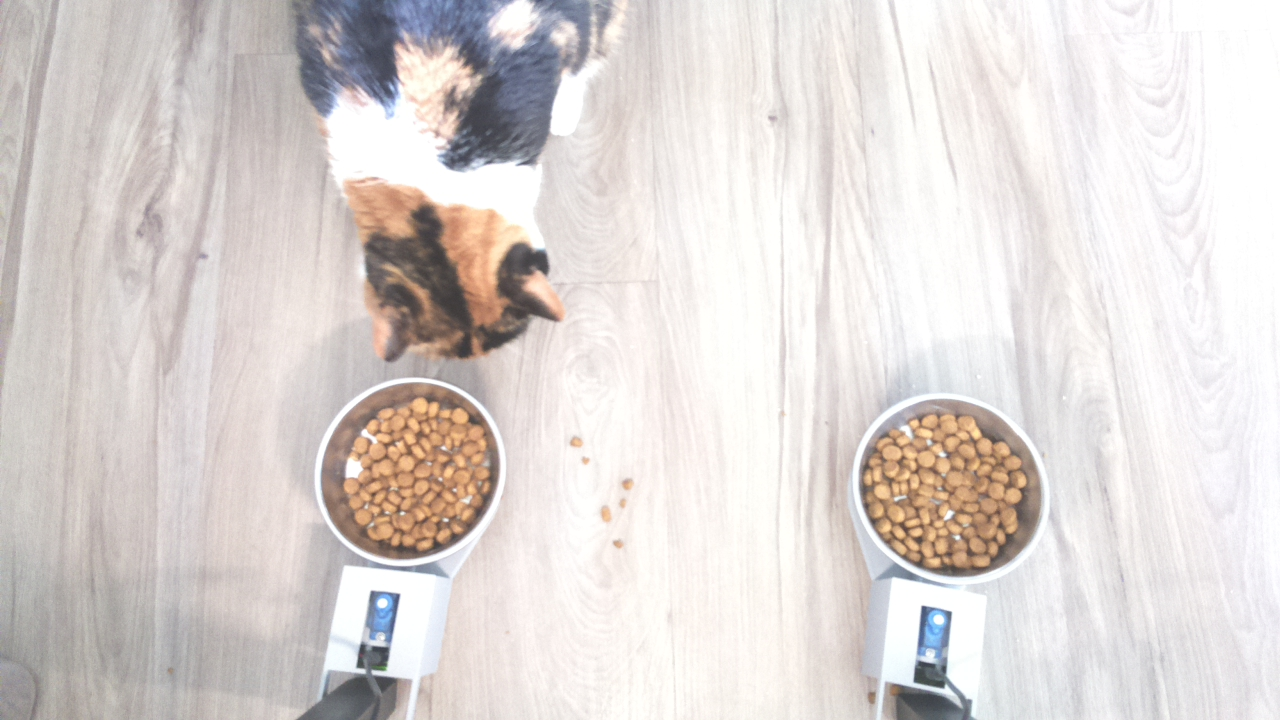bella: (309, 129, 589, 366)
open_bowl: (845, 390, 1048, 587), (312, 375, 508, 568)
